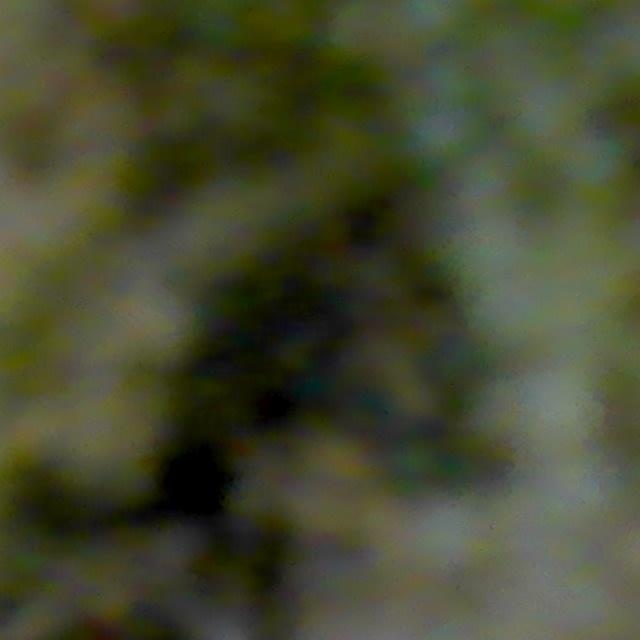SeaGrape: (393, 0, 476, 49)
